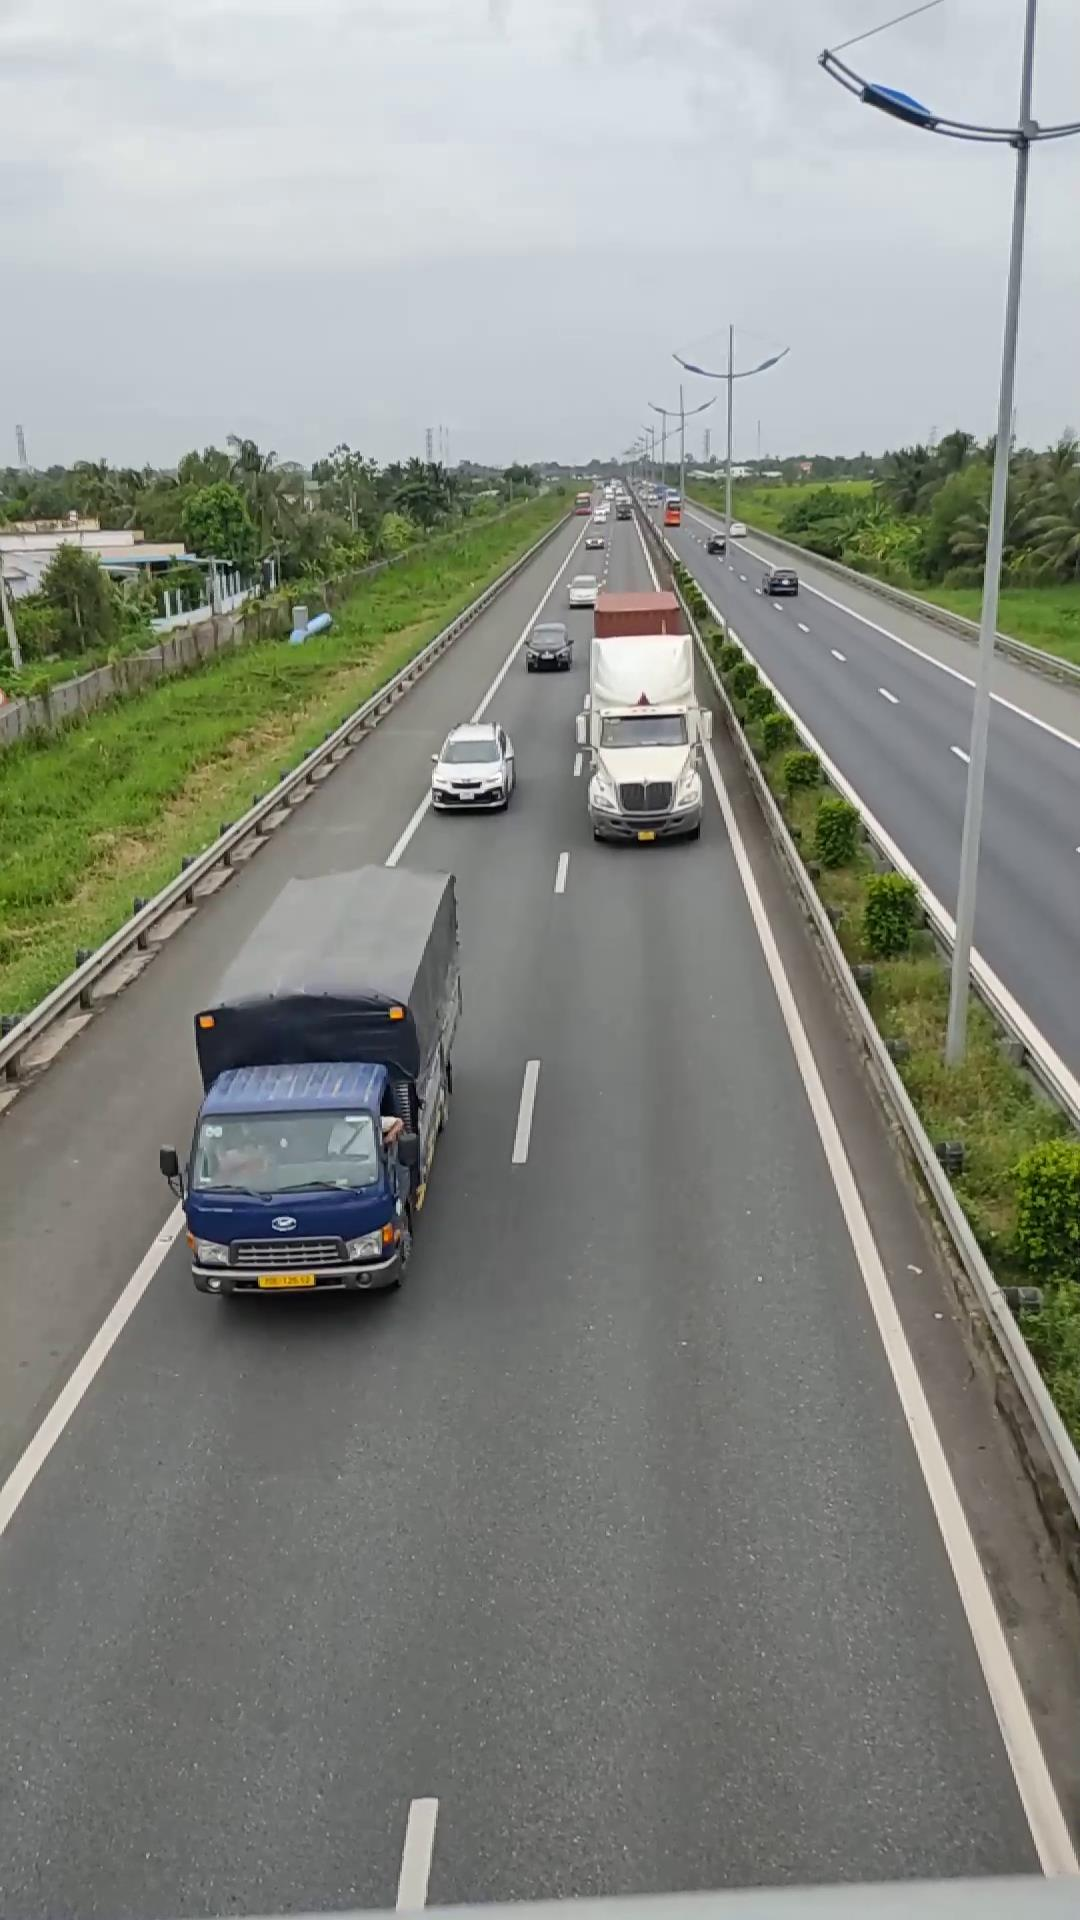car: (430, 720, 517, 812)
container: (568, 580, 703, 842)
truck: (175, 859, 465, 1298)
